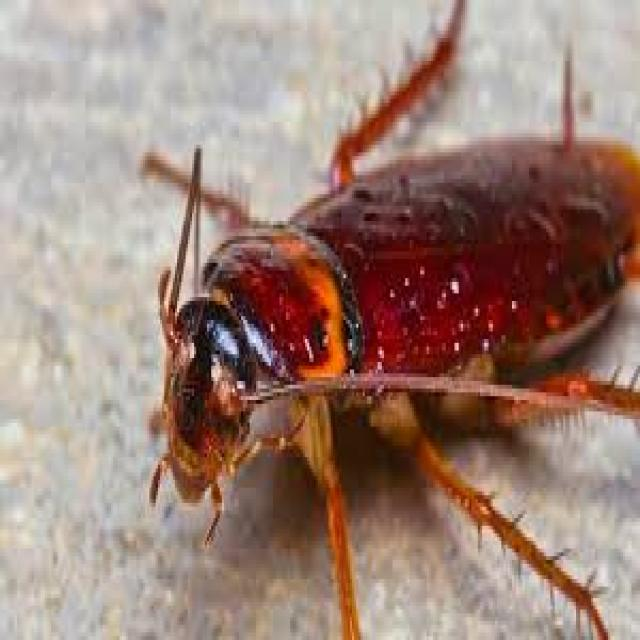Cockroach: (121, 0, 640, 640)
